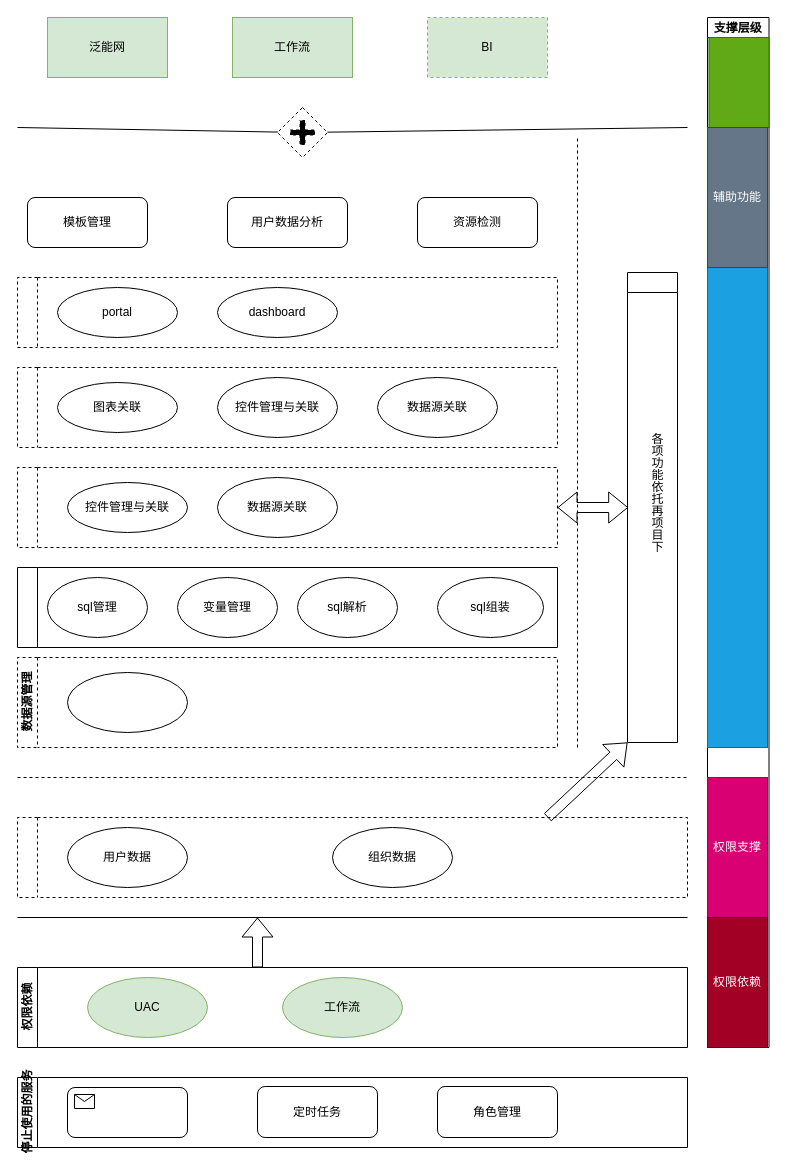
Some shapes in this 787 by 1172 pixel diagram are drawn without their labels. Here are the shapes that lost their labels. From the top down, the box of each, then its label:
(708, 36, 769, 128): 面向客户系统
(276, 106, 328, 158): 网关
(16, 276, 558, 348): 分享管理
(16, 366, 558, 448): 仪表盘管理
(16, 466, 558, 548): 图表管理
(626, 272, 678, 742): 项目管理
(706, 236, 768, 748): 核心业务系统
(16, 566, 558, 648): 数据集管理
(66, 672, 188, 732): 驱动管理
(16, 816, 688, 898): 组织权限同步
(66, 1086, 188, 1138): 邮件服务
